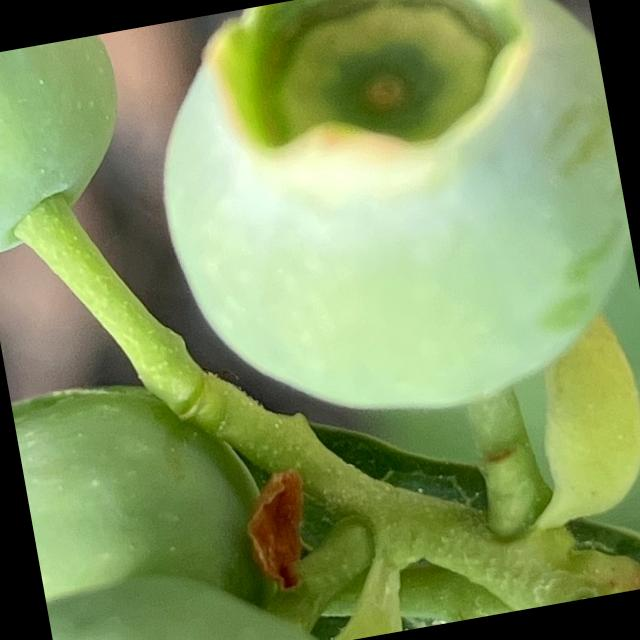Blueberries: (127, 0, 640, 450)
